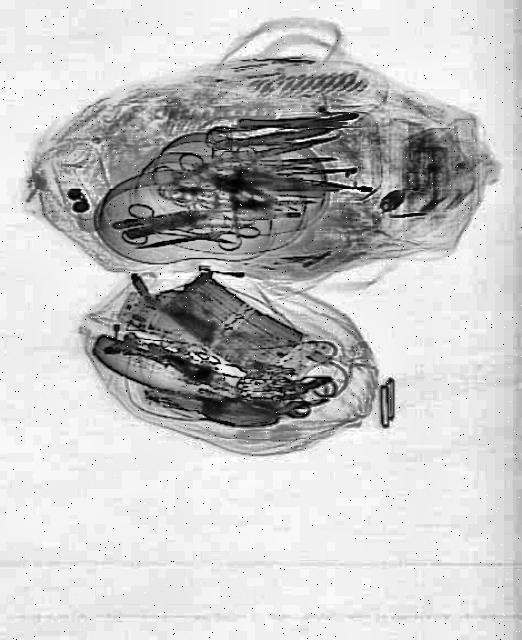Scissors: (121, 202, 243, 266), (136, 228, 262, 262)
